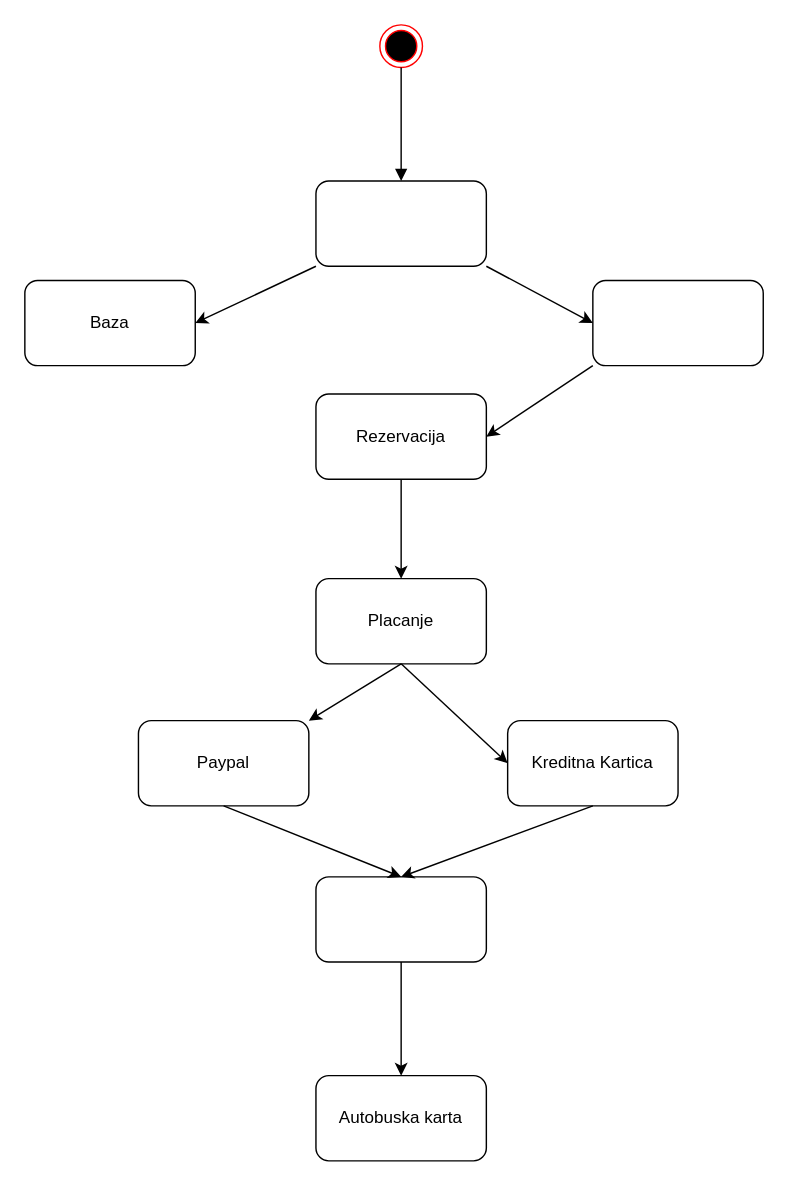
Some shapes in this 788 by 1186 pixel diagram are drawn without their labels. The centre of each missing label's shape, as x and y in pixels:
"Kreiranje Naloga" belongs at point 400,223.
"Log IN" belongs at point 677,322.
"Verifikacija" belongs at point 400,918.
